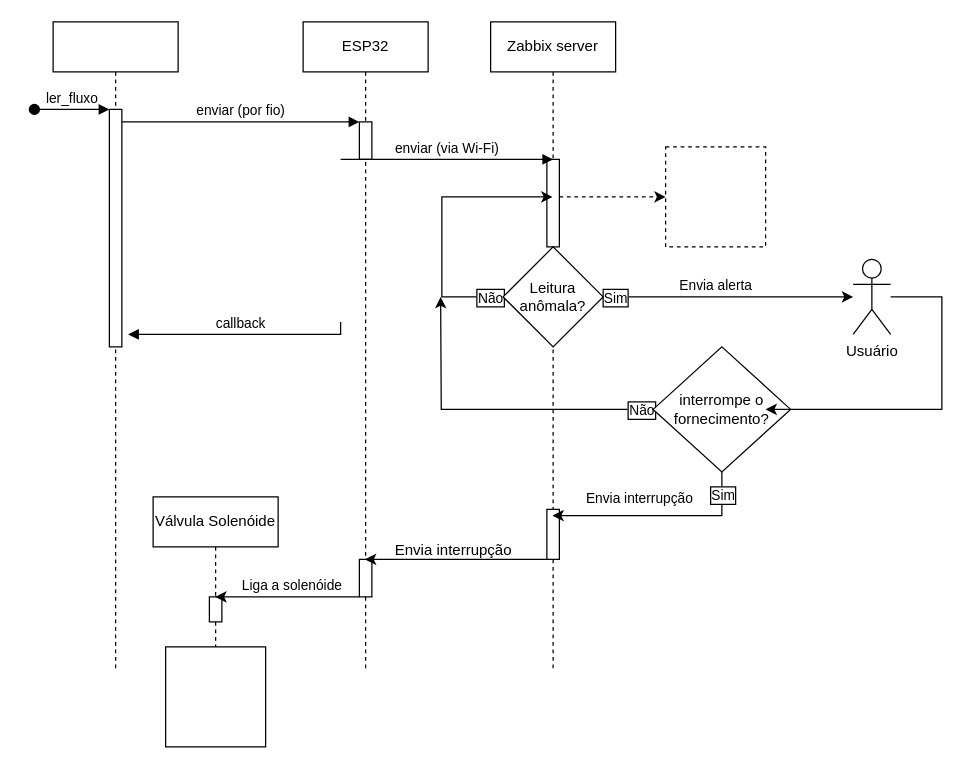
The diagram is 974 pixels wide and 769 high, and some of its shapes have lost their labels. The shapes that lost their labels are listed below. From the top down, each one's centre as x and y in pixels, then its label:
At point (715, 196): "Disponibiliza a leitura na plataforma".
At point (115, 346): "sensor yf-403".
At point (215, 696): "Interrompe o fornecimento de água".
